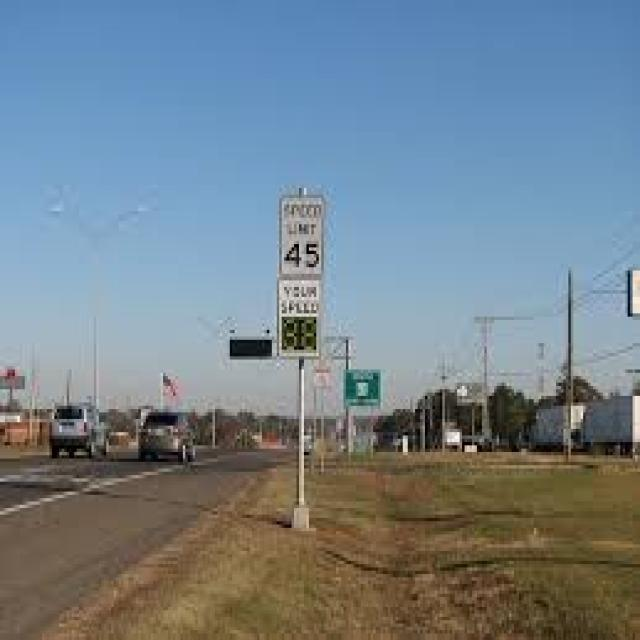speedLimit45: (273, 196, 327, 279)
